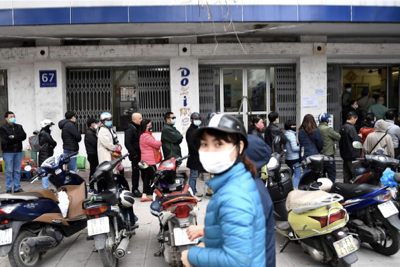with_mask: (198, 136, 238, 177), (194, 117, 202, 128), (9, 115, 17, 124), (170, 116, 177, 126), (105, 119, 113, 127), (148, 123, 154, 133), (259, 120, 265, 130), (353, 103, 360, 110), (93, 122, 99, 130), (346, 87, 353, 93), (293, 124, 298, 132), (277, 117, 281, 125), (374, 119, 378, 126), (50, 124, 53, 133)
without_mask: (135, 115, 144, 125), (352, 117, 359, 126)
